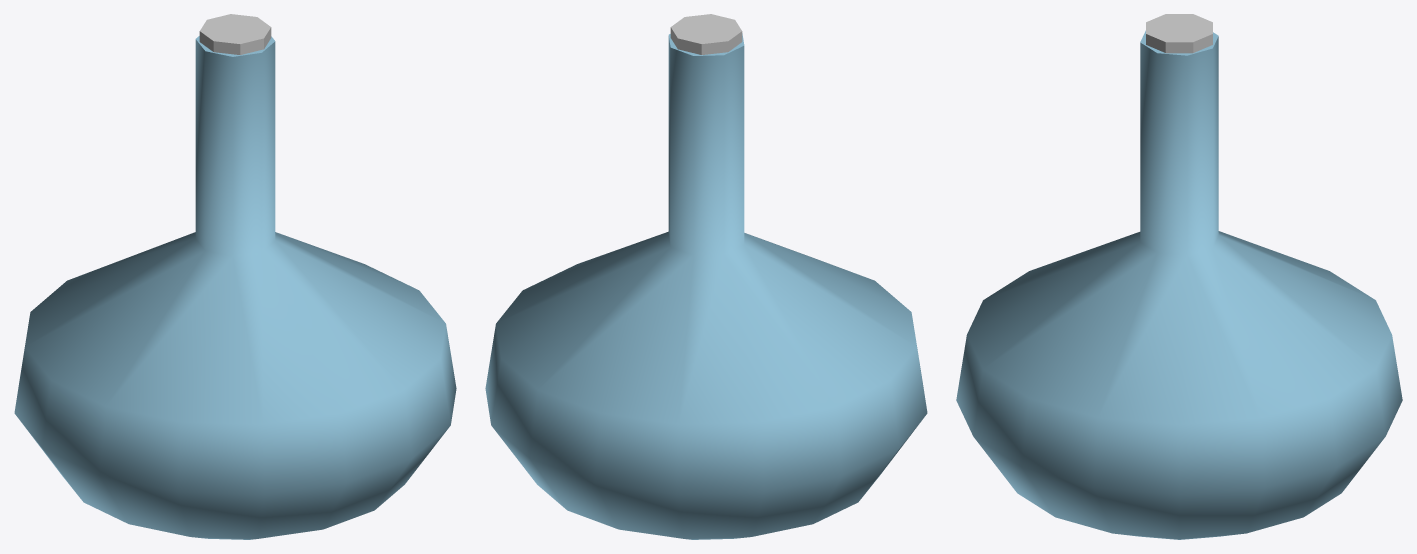
File: SM_Flask_03.fbx
3 views of the same model, side by side, from view 1: azimuth 30°, elevation 25°; view 2: azimuth 150°, elevation 25°; view 3: azimuth 270°, elevation 25° (orthographic).
Parts seen in each view (by area): view 1: SM_Flask_03; view 2: SM_Flask_03; view 3: SM_Flask_03.
Part boxes in pixels (x1,y1,x2,y2): SM_Flask_03: [14, 14, 456, 539]; SM_Flask_03: [485, 14, 927, 539]; SM_Flask_03: [956, 14, 1402, 539].
Bounding box in the file's own units: 17.14 × 19.79 × 17.14.
